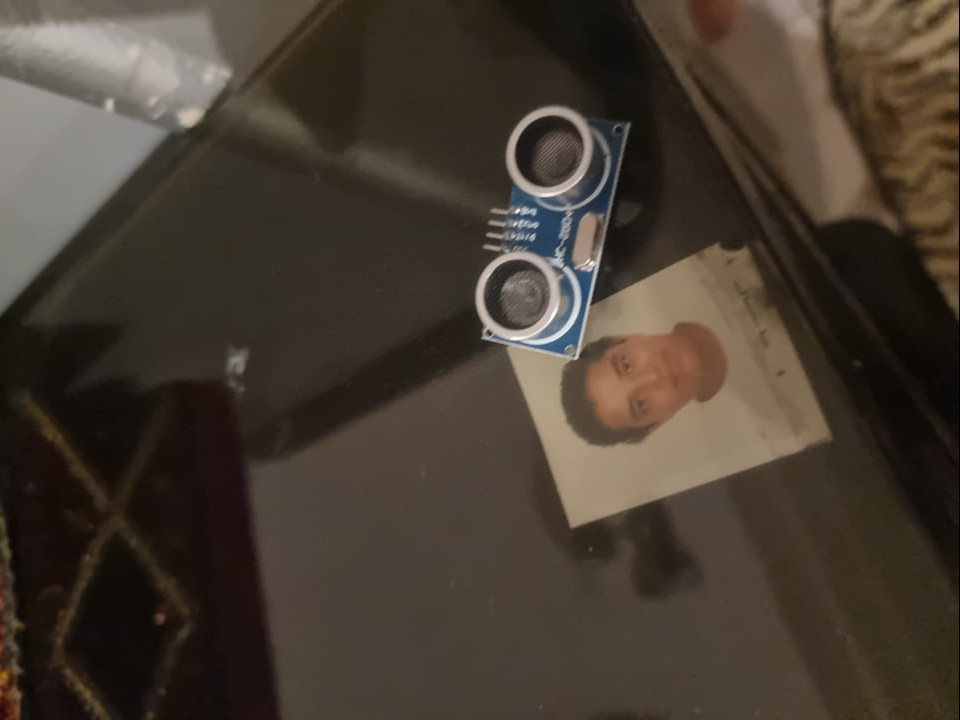SENSOR: (472, 107, 634, 358)
